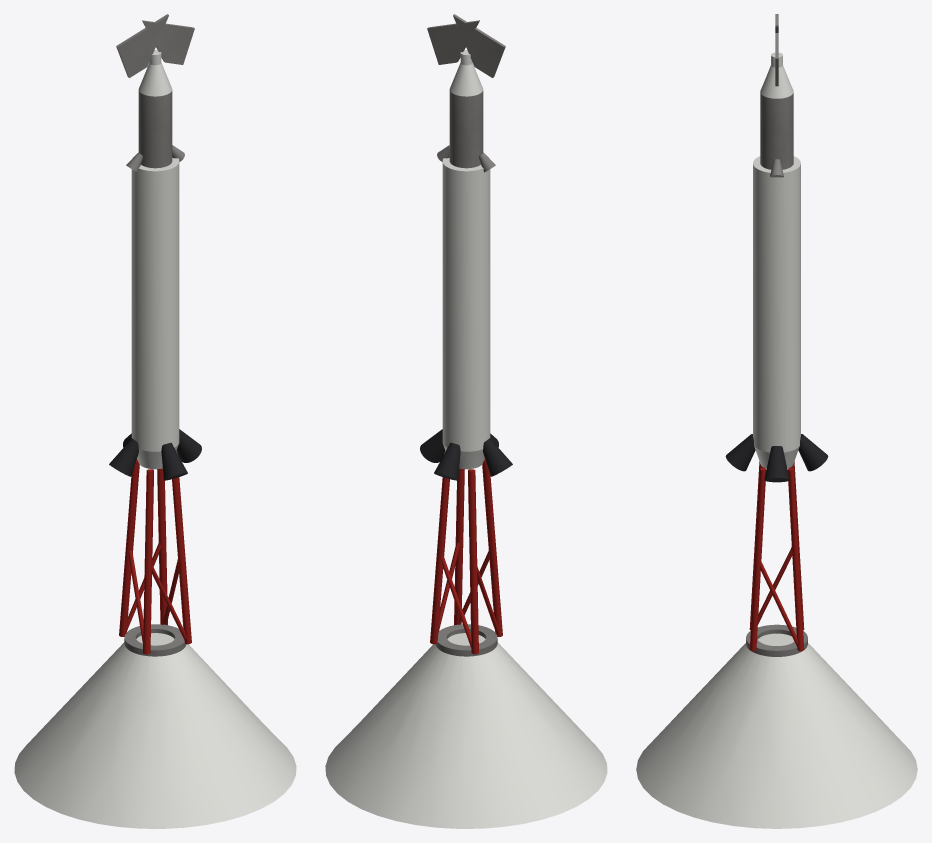
The model's file is prop24_launch_escape_tower_m.glb.
3 renders of one model, left to right at view 1: azimuth 30°, elevation 25°; view 2: azimuth 150°, elevation 25°; view 3: azimuth 270°, elevation 25°, orthographic.
Parts seen in each view (by area): view 1: boost_cover, abort_motor, tower_truss, jettison_motor, abort_nozzles, canard_1, canard_2, docking_ring, nose; view 2: boost_cover, abort_motor, tower_truss, jettison_motor, abort_nozzles, canard_1, canard_2, docking_ring, nose; view 3: boost_cover, abort_motor, tower_truss, jettison_motor, abort_nozzles, docking_ring, nose.
Part boxes in pixels (box(x1,y1,x2,y2)): boost_cover: box(14, 633, 296, 828); abort_motor: box(131, 157, 179, 469); tower_truss: box(119, 459, 191, 654); jettison_motor: box(126, 90, 184, 172); abort_nozzles: box(109, 429, 201, 480); canard_1: box(116, 14, 168, 77); canard_2: box(142, 20, 194, 64); docking_ring: box(124, 624, 186, 656); nose: box(138, 50, 172, 96); boost_cover: box(325, 633, 607, 828); abort_motor: box(442, 157, 490, 469); tower_truss: box(430, 459, 502, 654); jettison_motor: box(437, 90, 495, 172); abort_nozzles: box(420, 429, 512, 480); canard_1: box(453, 14, 505, 77); canard_2: box(427, 20, 479, 64); docking_ring: box(435, 624, 497, 656); nose: box(449, 50, 483, 96); boost_cover: box(636, 633, 917, 828); abort_motor: box(753, 156, 800, 468); tower_truss: box(749, 461, 804, 651); jettison_motor: box(760, 93, 793, 177); abort_nozzles: box(725, 434, 828, 482); docking_ring: box(746, 624, 807, 656); nose: box(760, 52, 793, 98).
Size of the model in its own units: 2.5 by 7.34 by 2.5.
Materials: 4 (1 with a texture image).
